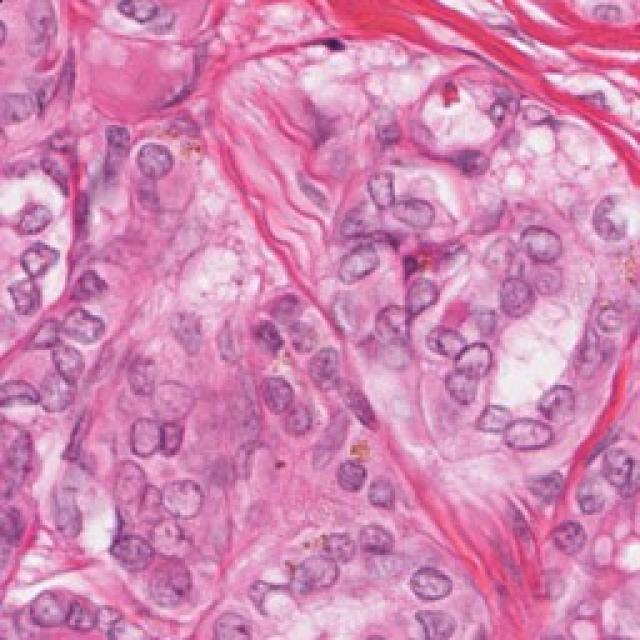abnormal: (308, 227, 402, 315), (116, 130, 196, 217), (283, 525, 353, 613), (135, 368, 213, 440), (398, 550, 470, 622), (375, 182, 448, 253), (97, 435, 160, 513), (46, 297, 126, 355), (158, 468, 222, 535), (486, 263, 546, 330), (0, 226, 68, 283), (298, 338, 354, 407), (48, 586, 116, 640), (0, 186, 68, 238), (498, 418, 570, 467), (444, 338, 504, 395), (362, 292, 413, 358), (0, 275, 55, 333), (517, 216, 573, 272), (23, 563, 67, 633), (395, 267, 448, 325), (535, 380, 593, 428), (255, 369, 307, 419)
